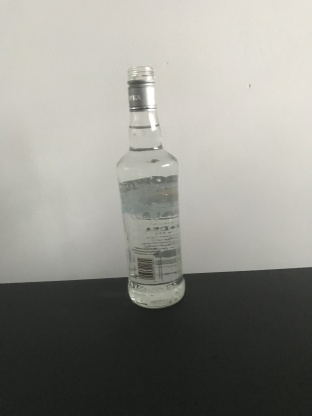nakretka: (125, 65, 158, 114)
